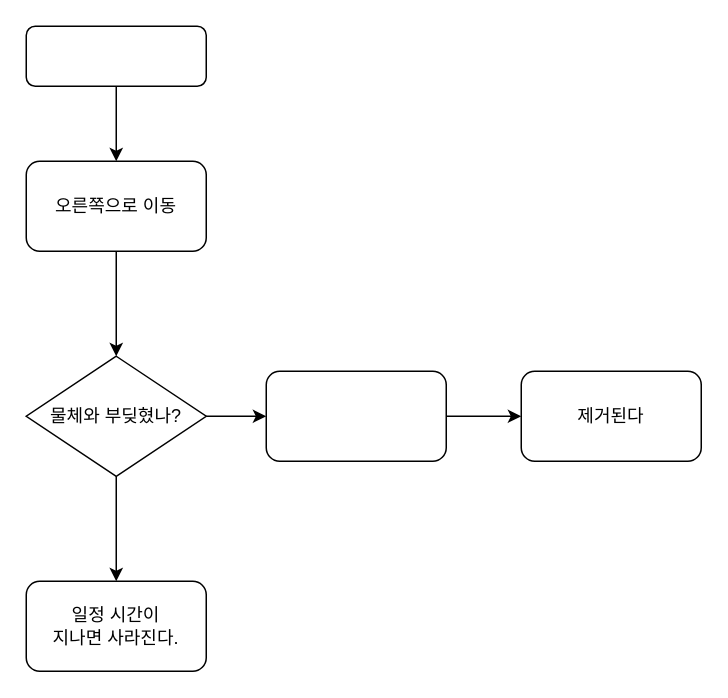
Some shapes in this 728 by 698 pixel diagram are drawn without their labels. The shapes that lost their labels are listed below. From the top down, each one's centre as x and y in pixels, then its label:
At point (115, 55): "총알 생성".
At point (355, 415): "부딪힌 물체에게 피해를 준다.".
